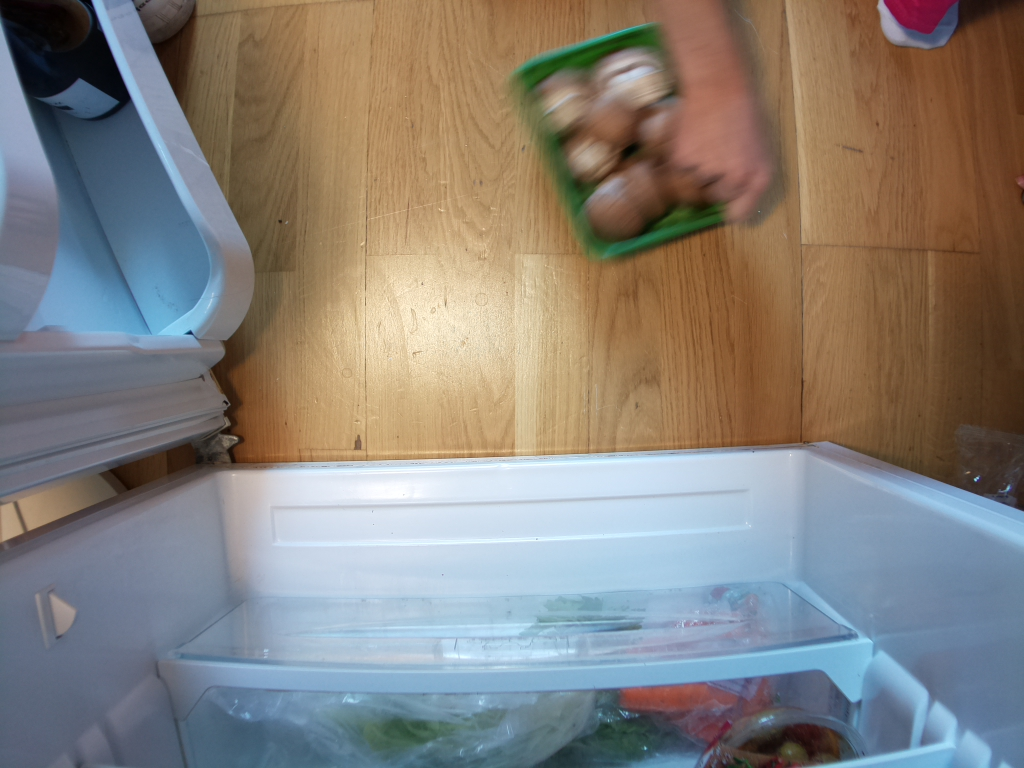mushrooms: (515, 21, 729, 256)
